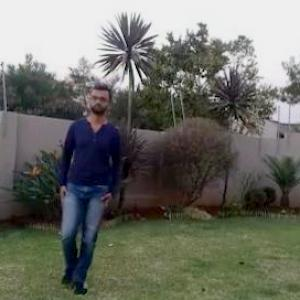follow: (47, 74, 127, 299)
